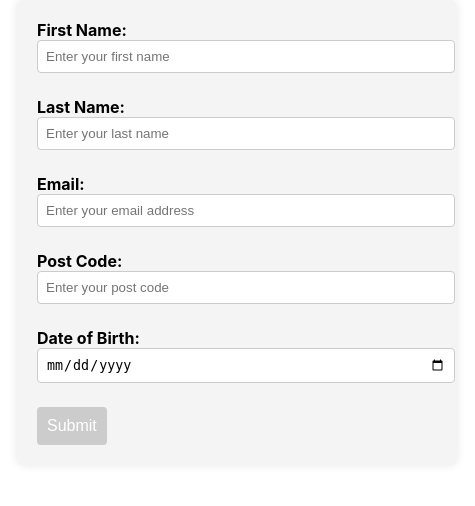
Test: handleSubmission displays error message and alert for invalid email
This screenshot has width=475, height=506.
Set valid values for each field
Type "John" into the field labelled "First Name:" at (246, 56), box [37, 40, 455, 73]
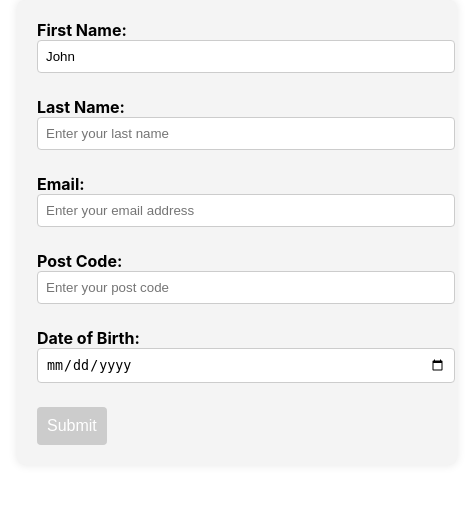
Type "Doe" into the field labelled "Last Name:" at (246, 134), box [37, 117, 455, 150]
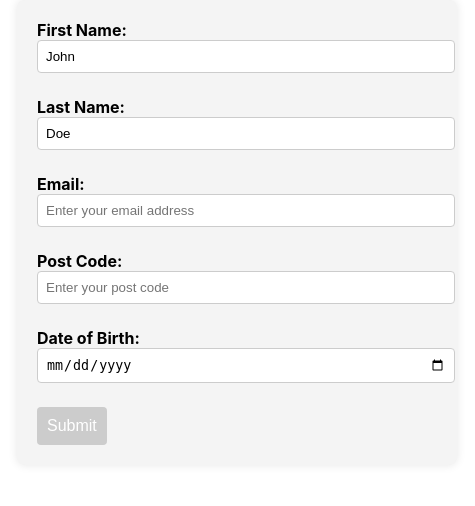
Type "1111" into the field labelled "Email:" at (246, 210), box [37, 194, 455, 227]
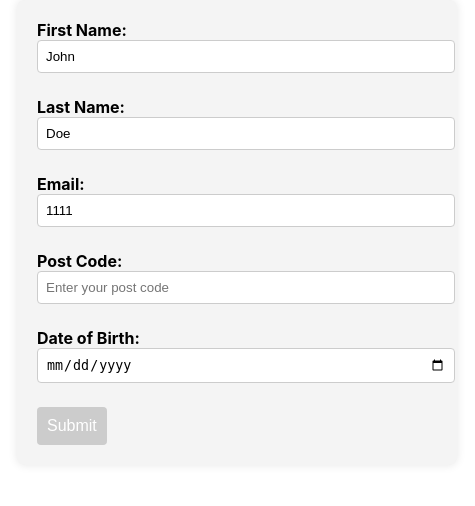
Type "12345" into the field labelled "Post Code:" at (246, 288), box [37, 271, 455, 304]
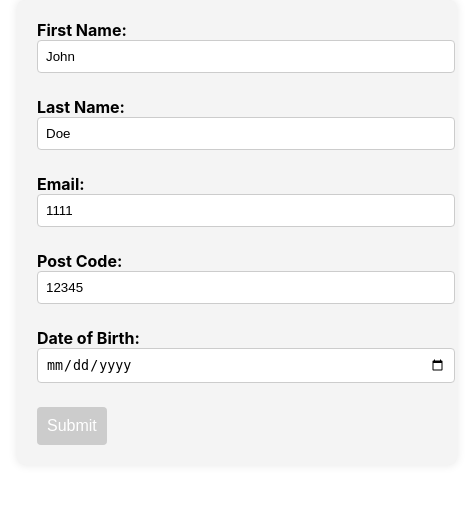
Type "1990-01-01" into the date field labelled "Date of Birth:" at (246, 366), box [37, 348, 455, 383]
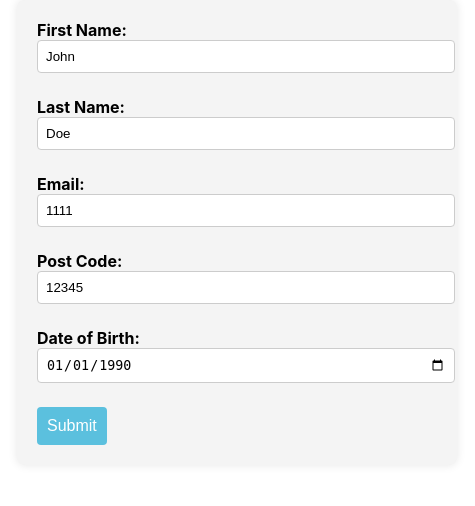
Click the button "Submit" at (72, 426), box [37, 407, 107, 445]
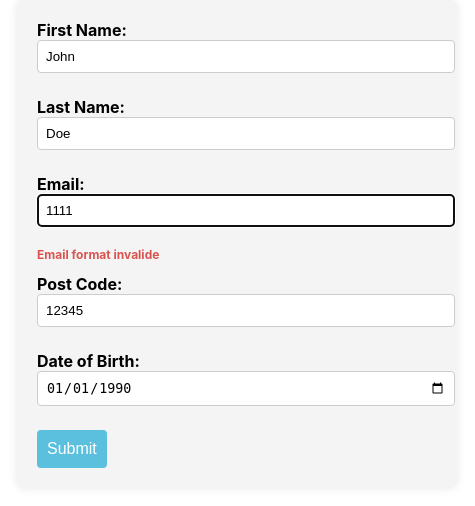
expect the text with test id "errorEmail" reads "Email format invalide": met, box [37, 247, 159, 262]
